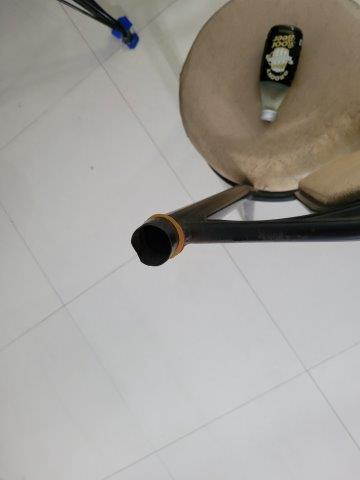botolkaca: (257, 26, 302, 122)
